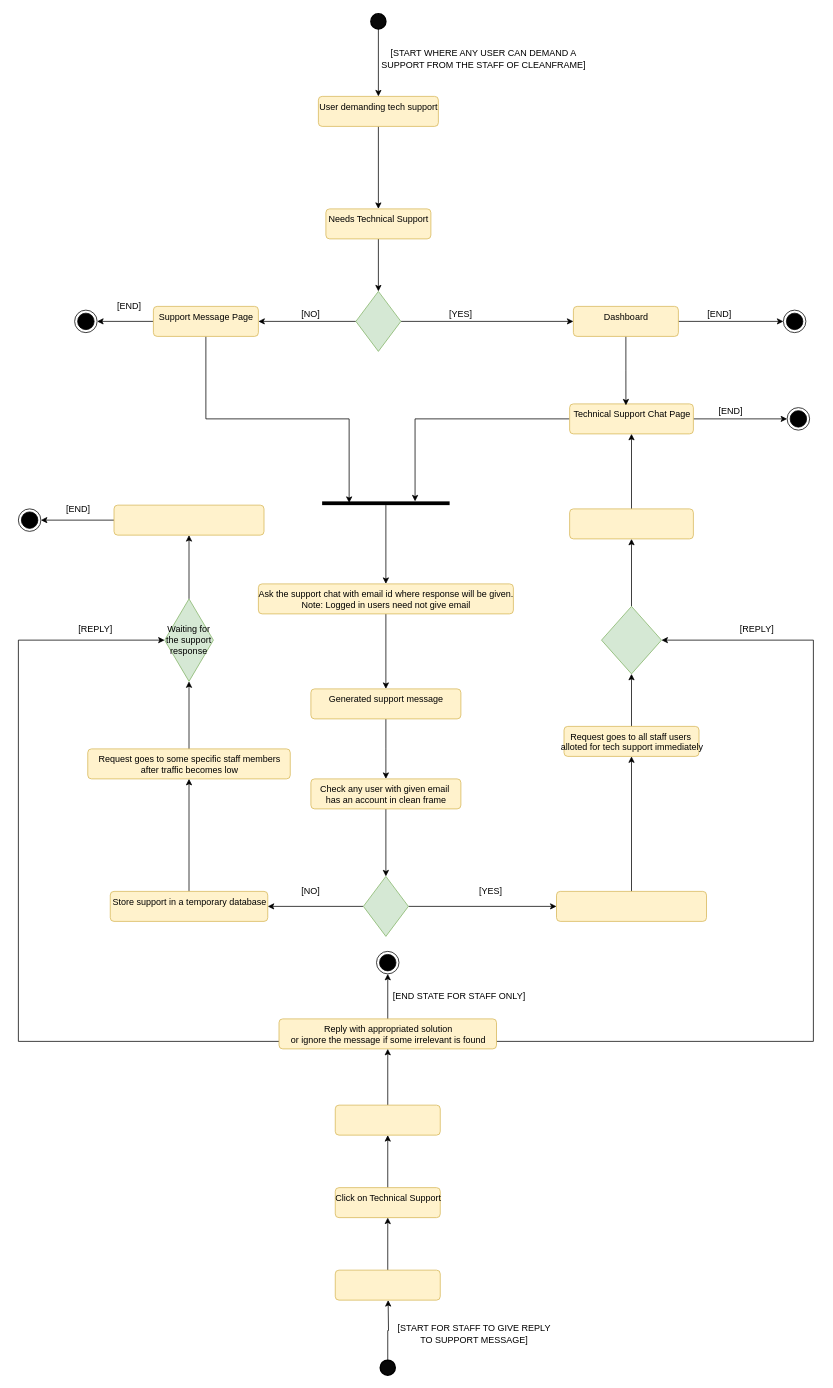
The diagram is 833 pixels wide and 1388 high, and some of its shapes have lost their labels. Here are the shapes that lost their labels. From the top down, the centre of each, then its label:
At [378,321]: "user logged in".
At [188,519]: "Mail response to the email provided".
At [631,523]: "Store response to database".
At [631,640]: "Waiting for the support reply".
At [631,906]: "Store support message in database".
At [387,1119]: "Show all support messages".
At [387,1284]: "Staff Dashboard".
